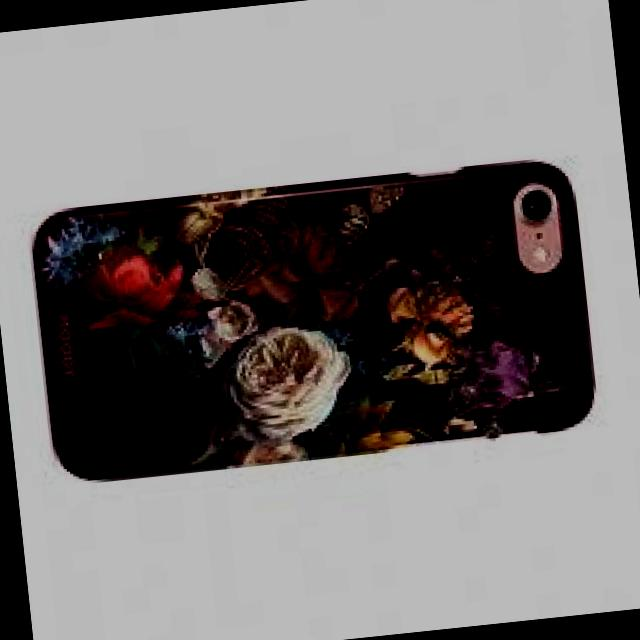lens_back: (510, 182, 558, 228)
phone: (26, 148, 604, 490)
